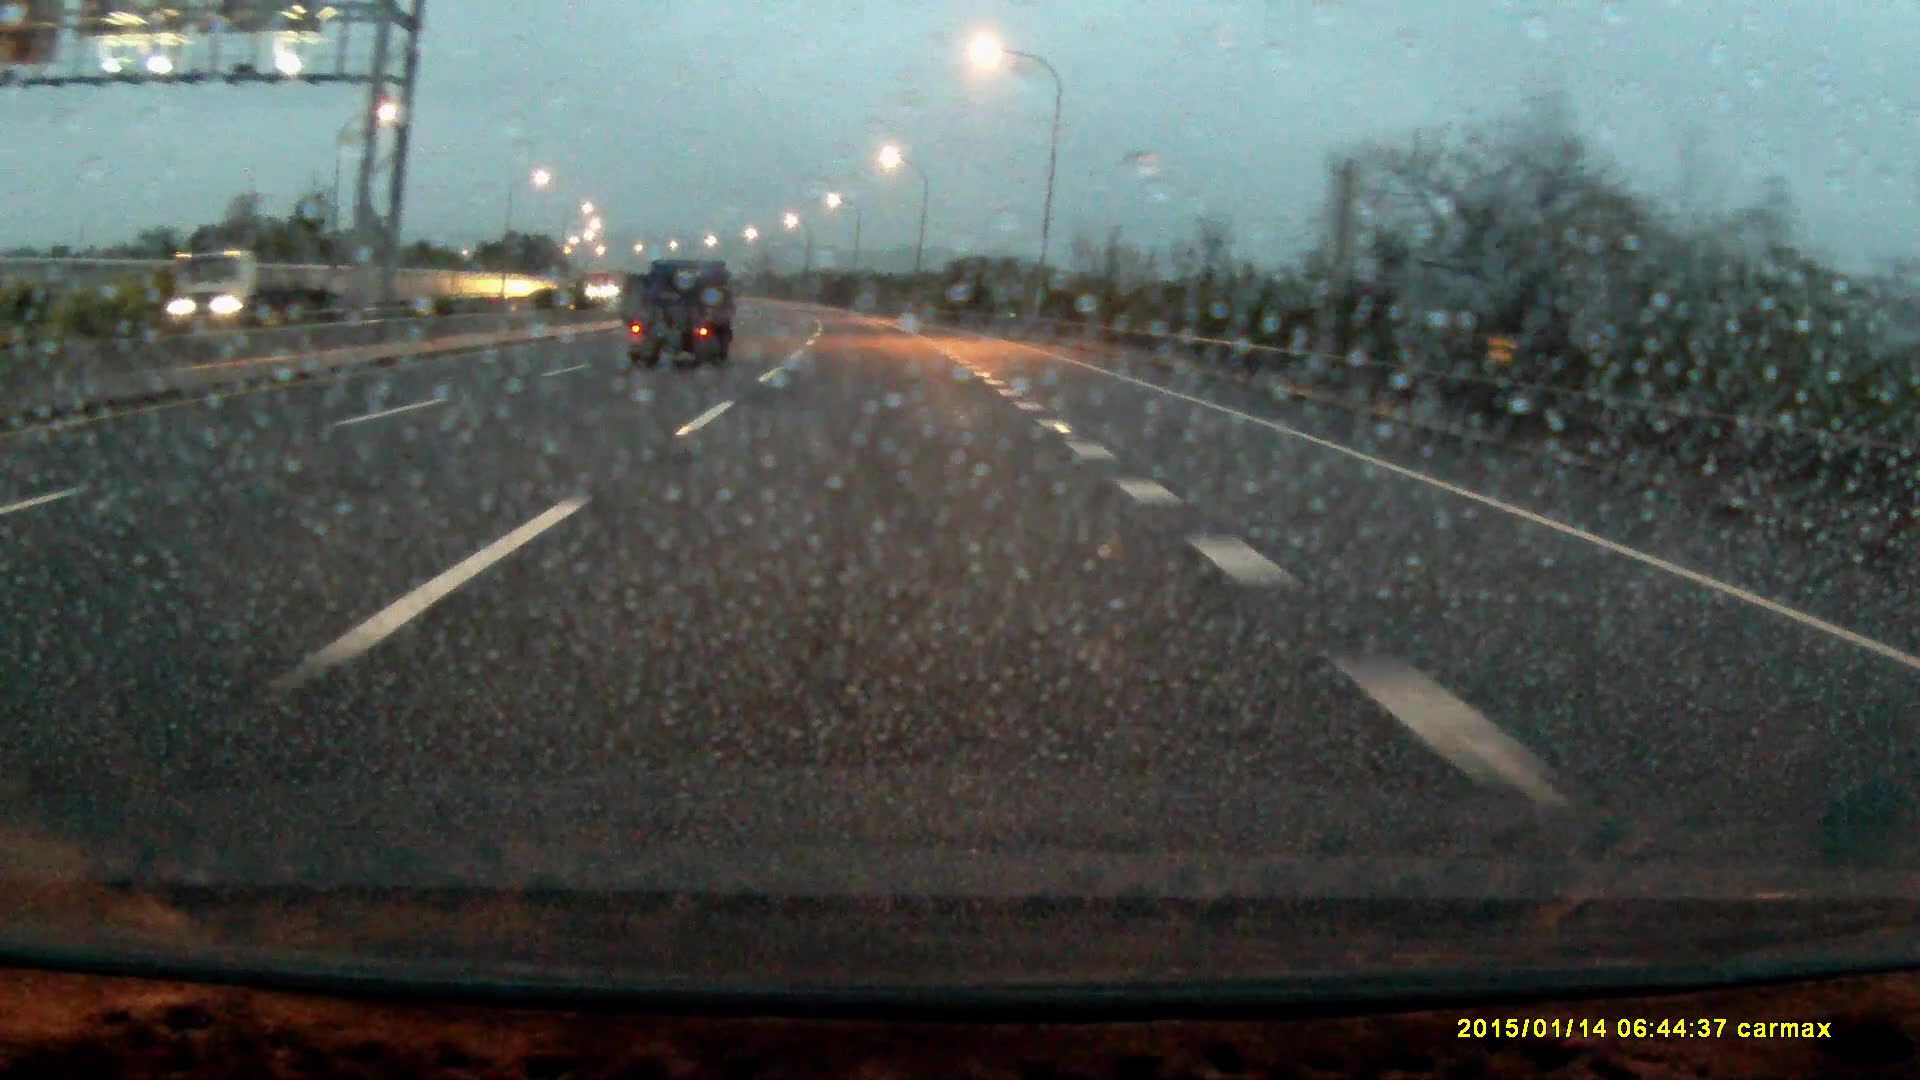vehicle: (156, 251, 331, 324), (628, 262, 738, 375)
